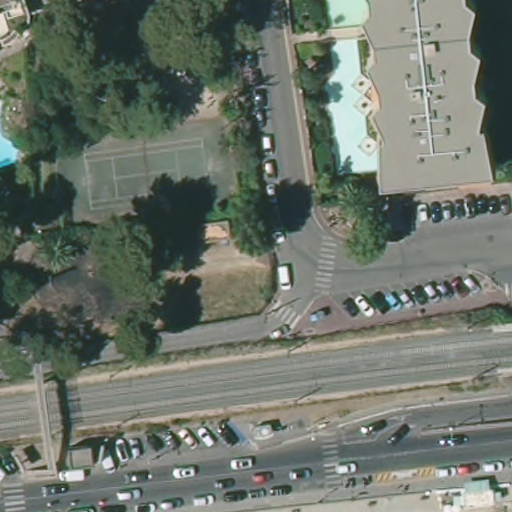pool: (1, 132, 27, 171)
